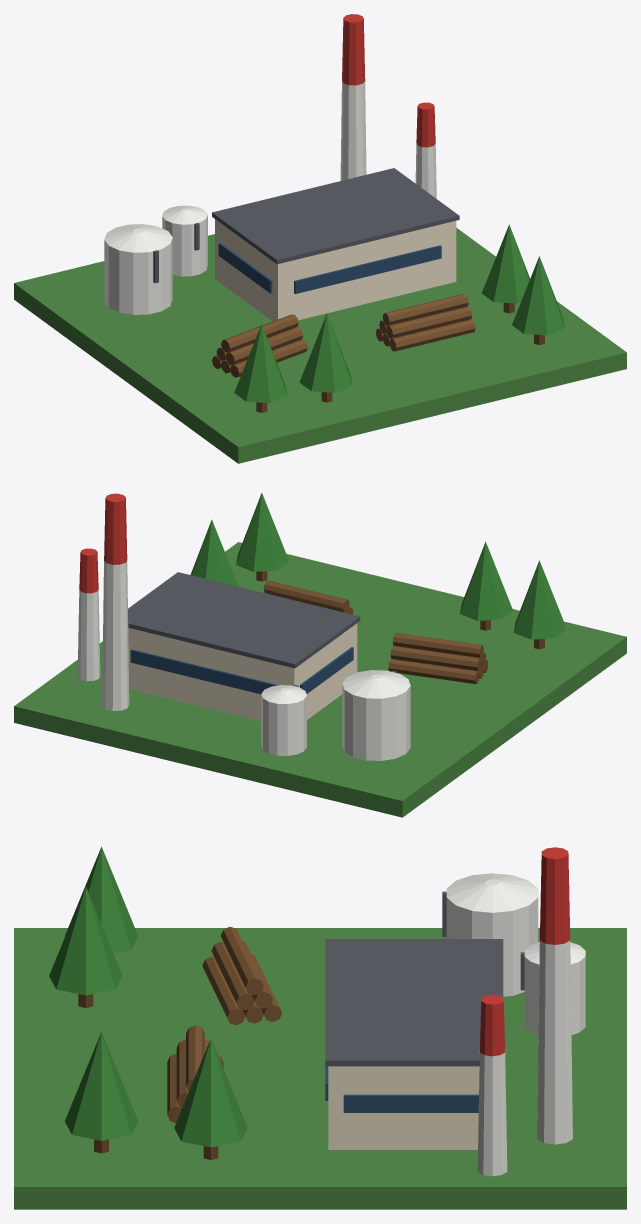
File: forest_rent_3.glb
3 renders of one model, top to bottom at view 1: azimuth 30°, elevation 25°; view 2: azimuth 150°, elevation 25°; view 3: azimuth 270°, elevation 25°, orthographic. The views are drawn at different scales.
Parts seen in each view (by area): view 1: forest_rent_3; view 2: forest_rent_3; view 3: forest_rent_3.
Part boxes in pixels (box(x1,y1,x2,y2)): forest_rent_3: box(14, 14, 626, 463); forest_rent_3: box(14, 492, 626, 817); forest_rent_3: box(14, 847, 626, 1209).
Size of the model in its own units: 1.96 by 1.08 by 1.96.
